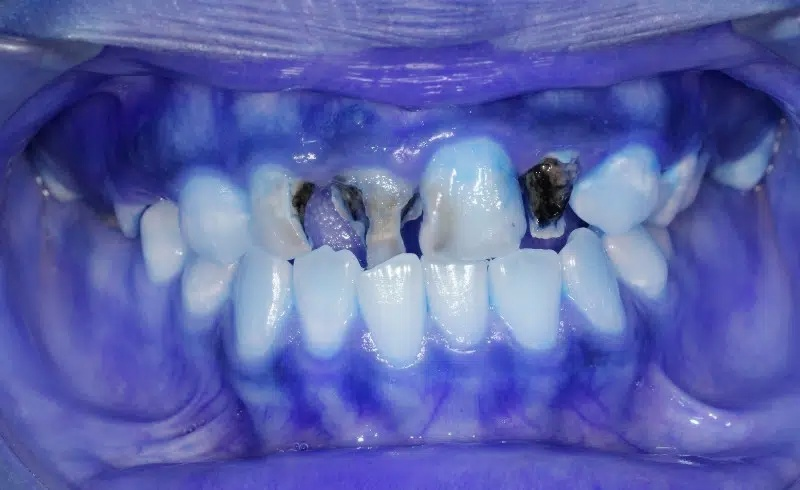karies: (518, 152, 581, 233), (389, 186, 451, 256), (331, 176, 377, 235), (284, 177, 322, 241)
